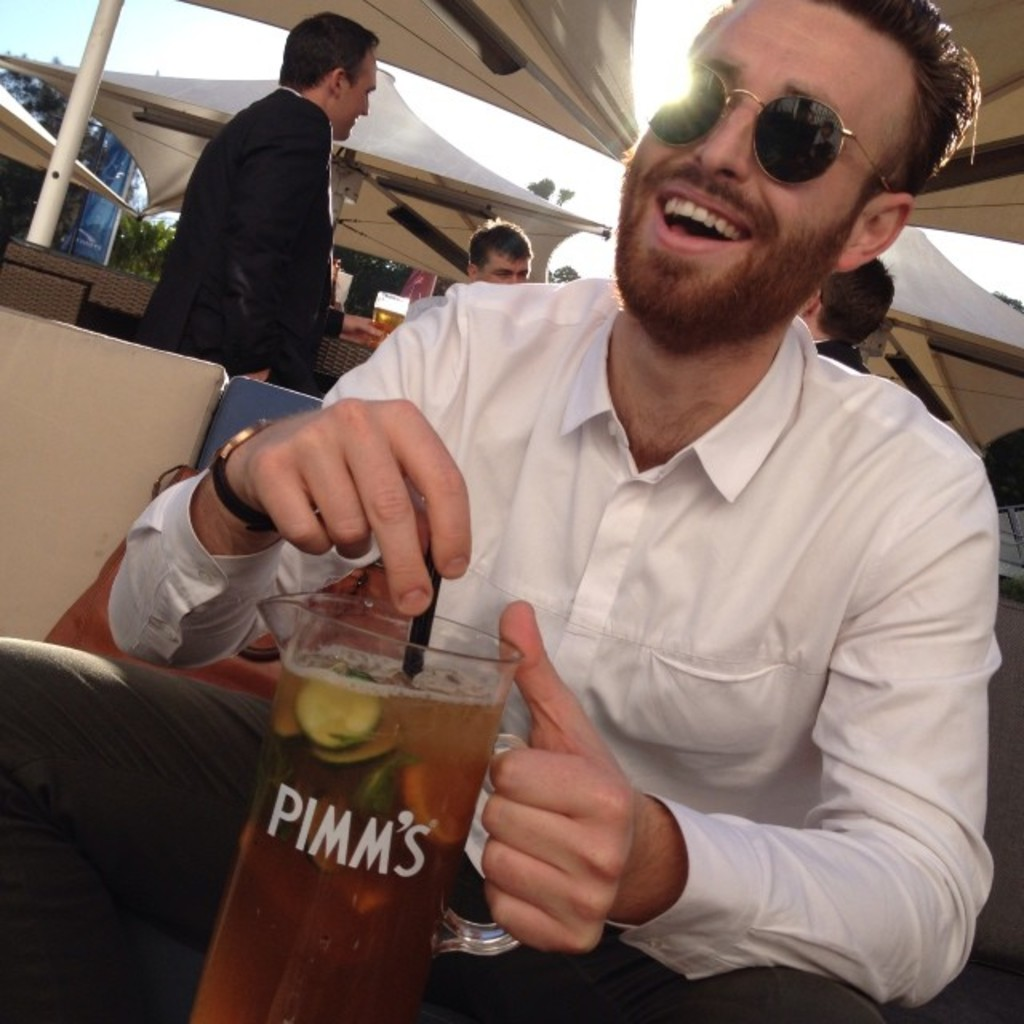Beer: (187, 664, 513, 1022)
